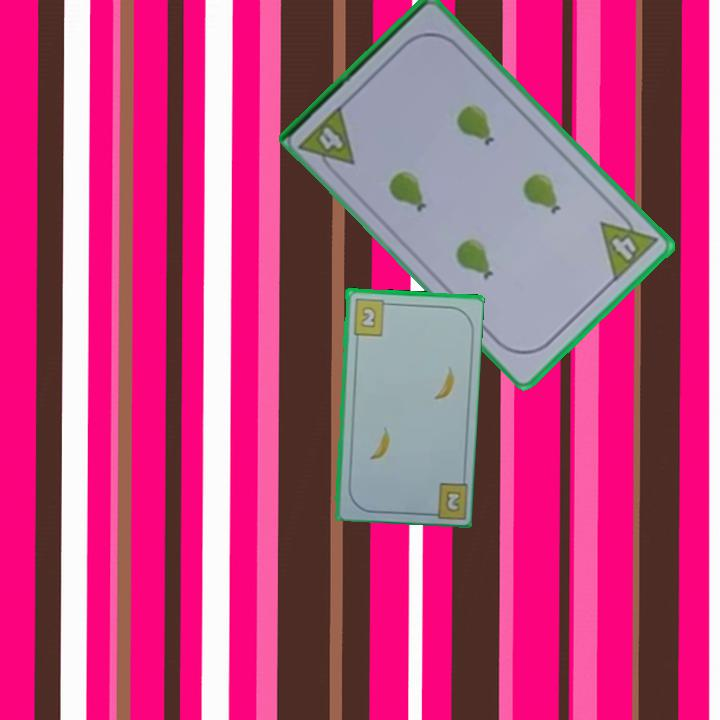2b: (349, 295, 393, 338), (442, 487, 464, 513)
4p: (596, 204, 661, 284), (296, 100, 358, 181)
